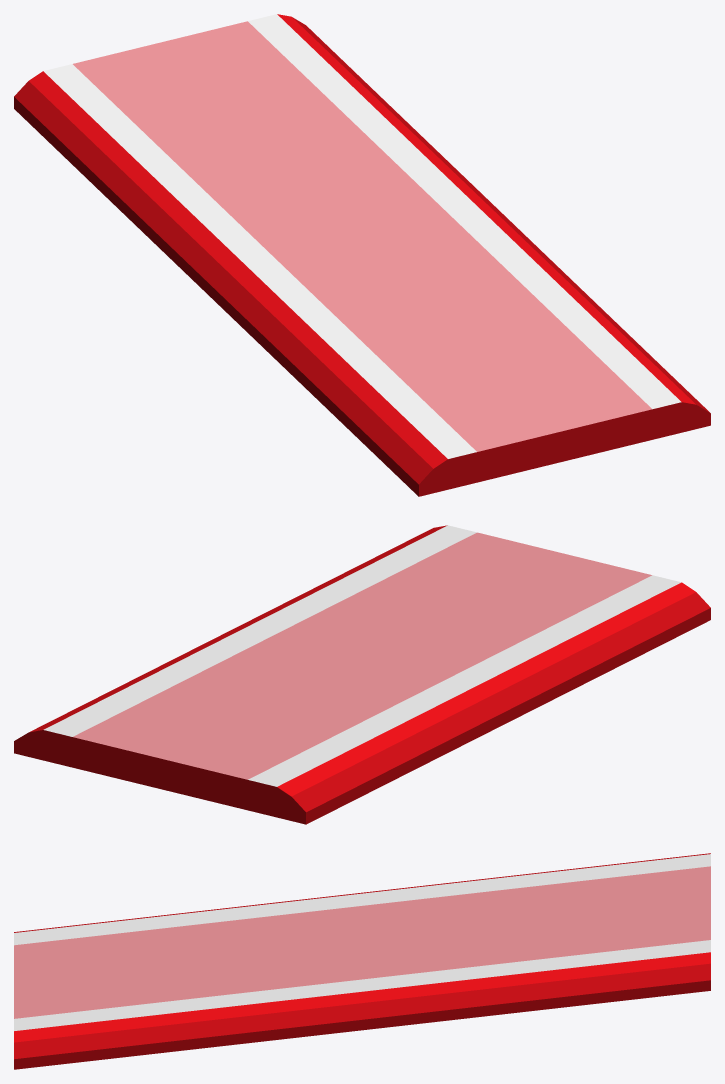
The model's file is longf1.fbx.
The picture shows the model from 3 angles, top to bottom: view 1: azimuth 30°, elevation 25°; view 2: azimuth 150°, elevation 25°; view 3: azimuth 270°, elevation 25°; orthographic projection. The views are drawn at different scales.
Parts seen in each view (by area): view 1: InclineLong1; view 2: InclineLong1; view 3: InclineLong1.
Boxes of the visible parts, box(x1,y1,x2,y2) form: InclineLong1: box(14, 14, 710, 496); InclineLong1: box(14, 525, 710, 824); InclineLong1: box(14, 853, 710, 1069).
Bounding box in the file's own units: 10 × 4 × 24.
